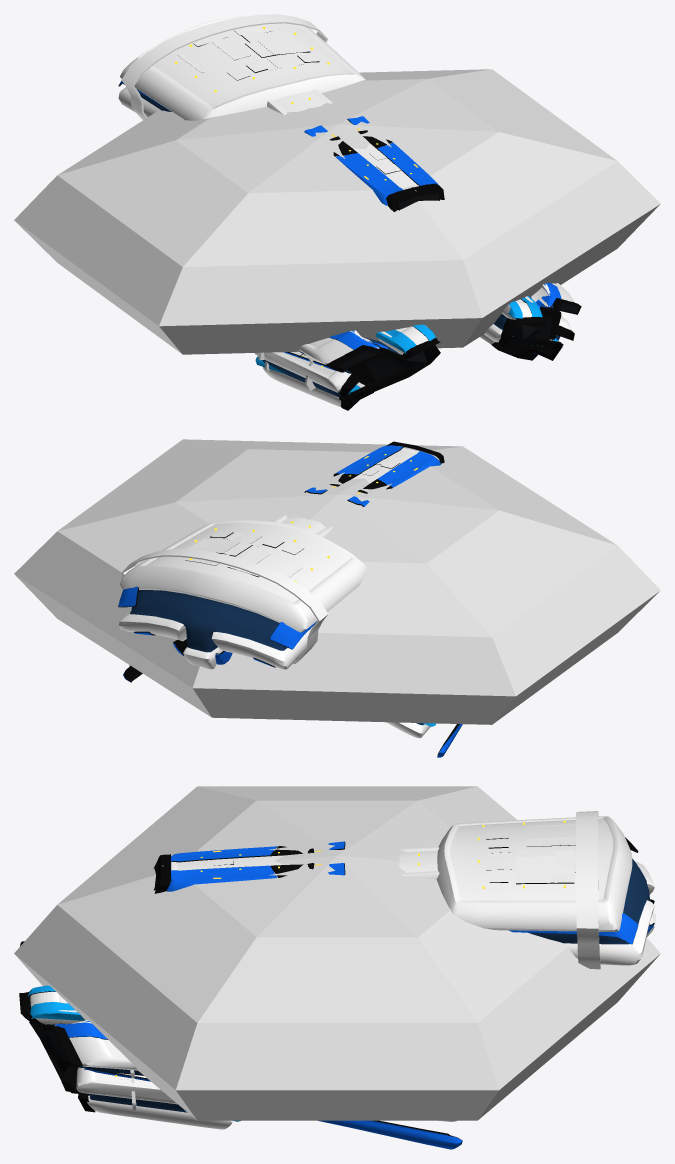
3 views of the same model, one above another, from view 1: azimuth 30°, elevation 25°; view 2: azimuth 150°, elevation 25°; view 3: azimuth 270°, elevation 25° (orthographic). The views are drawn at different scales.
Visible parts, largest first — view 1: Сфера, mat, detail, panel, glass, base, color2; view 2: Сфера, mat, detail, glass, base, panel; view 3: Сфера, mat, detail, base, panel, glass, color2.
Part boxes in pixels (x1=…): Сфера: x1=14, y1=69, x2=660, y2=354; mat: x1=118, y1=14, x2=574, y2=406; detail: x1=153, y1=23, x2=561, y2=376; panel: x1=119, y1=31, x2=581, y2=410; glass: x1=139, y1=92, x2=578, y2=404; base: x1=118, y1=80, x2=561, y2=372; color2: x1=255, y1=130, x2=558, y2=394; Сфера: x1=14, y1=439, x2=660, y2=724; mat: x1=118, y1=447, x2=430, y2=738; detail: x1=145, y1=450, x2=416, y2=602; glass: x1=124, y1=492, x2=457, y2=739; base: x1=118, y1=445, x2=462, y2=757; panel: x1=118, y1=441, x2=459, y2=756; Сфера: x1=14, y1=786, x2=660, y2=1120; mat: x1=30, y1=811, x2=655, y2=1129; detail: x1=59, y1=818, x2=613, y2=1086; base: x1=55, y1=841, x2=654, y2=1149; panel: x1=19, y1=837, x2=654, y2=1149; glass: x1=29, y1=858, x2=650, y2=1130; color2: x1=27, y1=846, x2=314, y2=1121.
Size of the model in its own units: 3 by 1.2 by 3.
